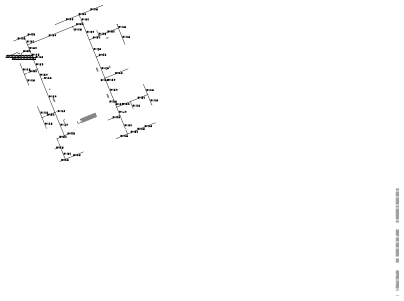wall: (85, 182, 87, 186), (84, 182, 86, 186), (82, 181, 84, 185), (81, 181, 83, 185), (80, 180, 82, 184), (79, 180, 81, 184), (86, 183, 88, 187), (88, 184, 90, 188), (89, 184, 91, 188), (91, 185, 93, 189), (92, 185, 94, 189), (93, 232, 95, 236), (105, 205, 107, 209), (78, 180, 80, 183), (49, 201, 51, 204), (94, 233, 96, 236), (104, 205, 106, 208), (84, 182, 85, 186), (83, 181, 84, 185), (80, 180, 81, 184), (87, 183, 88, 187), (88, 183, 89, 187), (90, 184, 91, 188), (91, 185, 92, 189), (50, 201, 51, 205)
